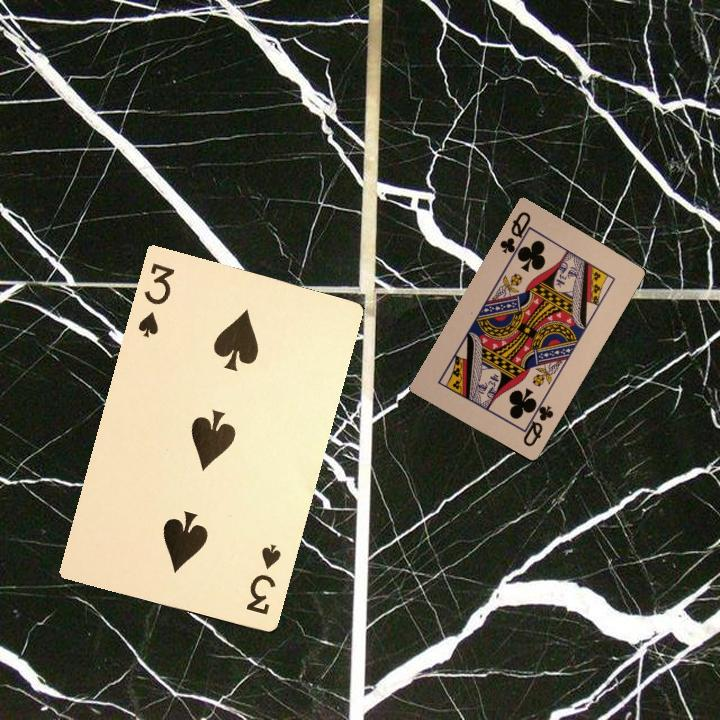3s: (134, 259, 177, 339), (242, 540, 284, 617)
Qc: (496, 207, 535, 261), (519, 396, 556, 449)
